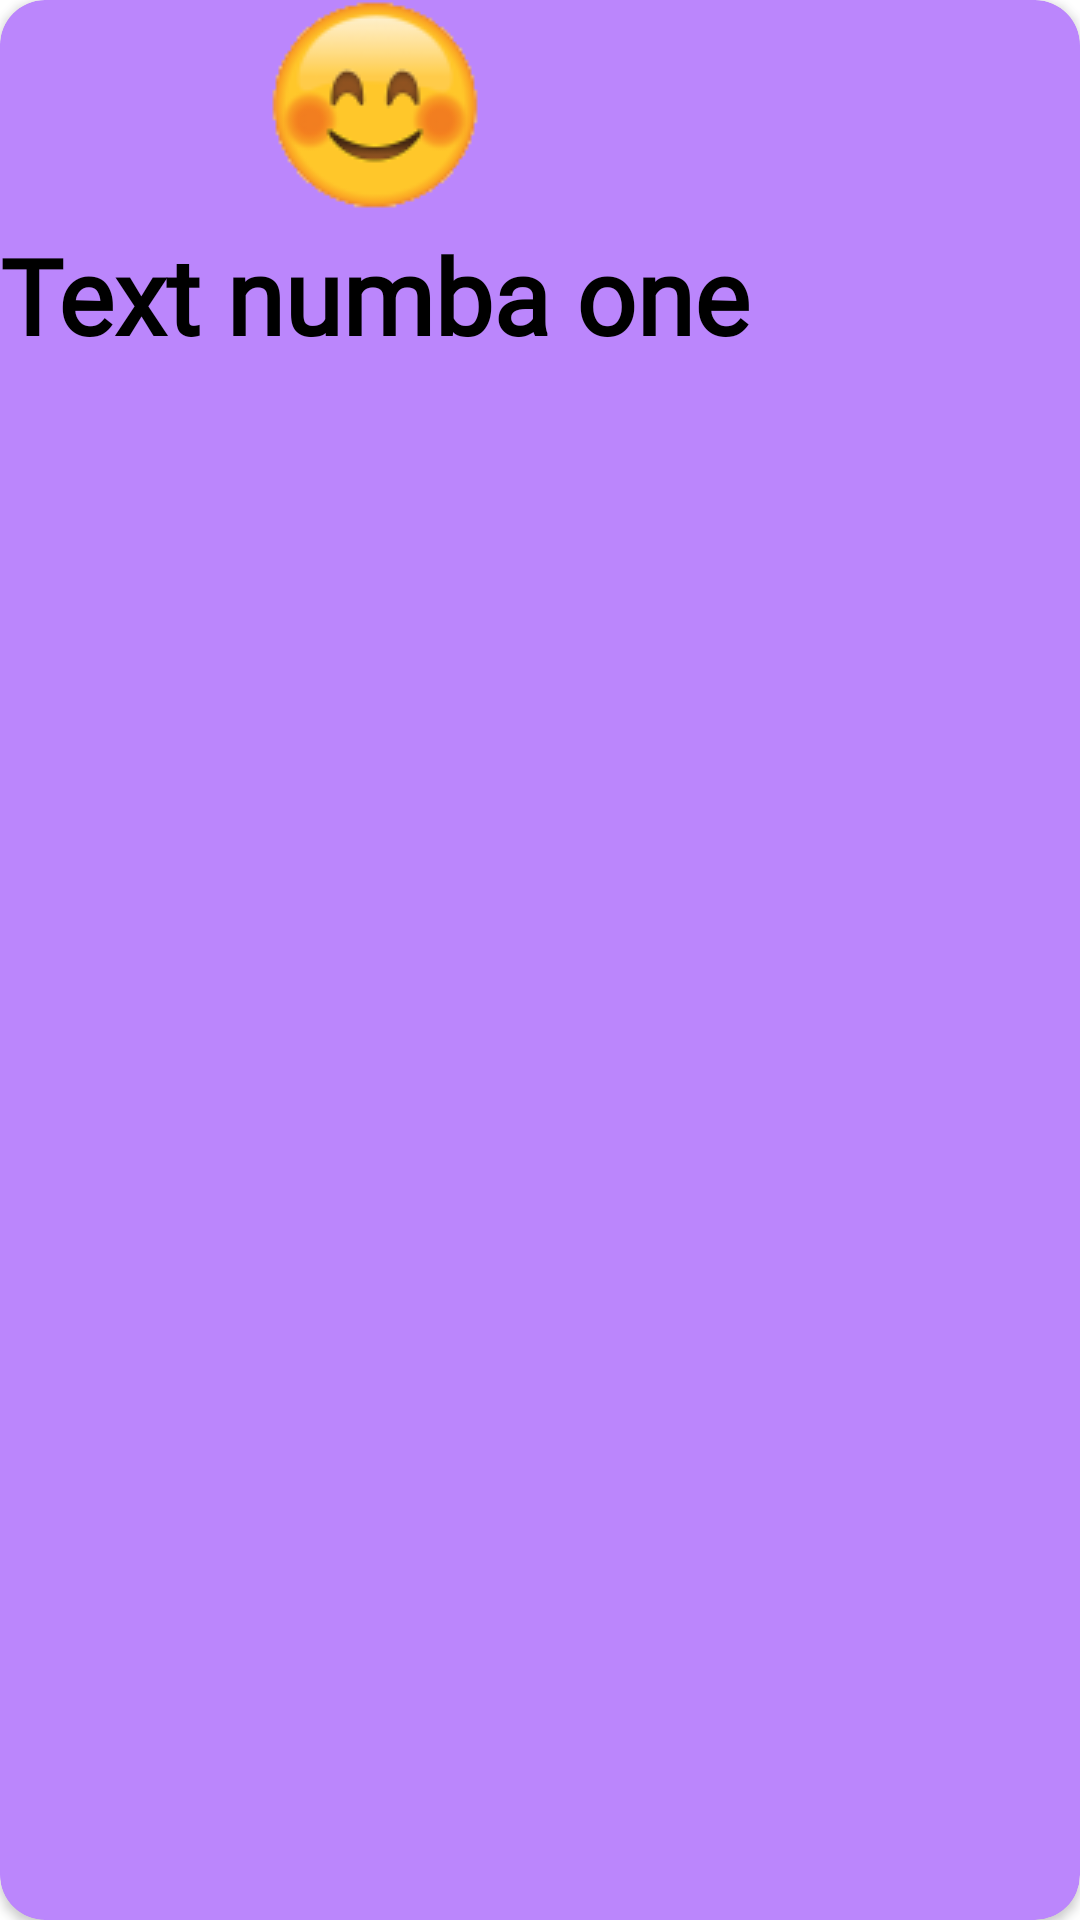

Named icons in this screenshot (1080px×1920px) and their centers, (x=x, y=y):
smile: (x=375, y=105)
